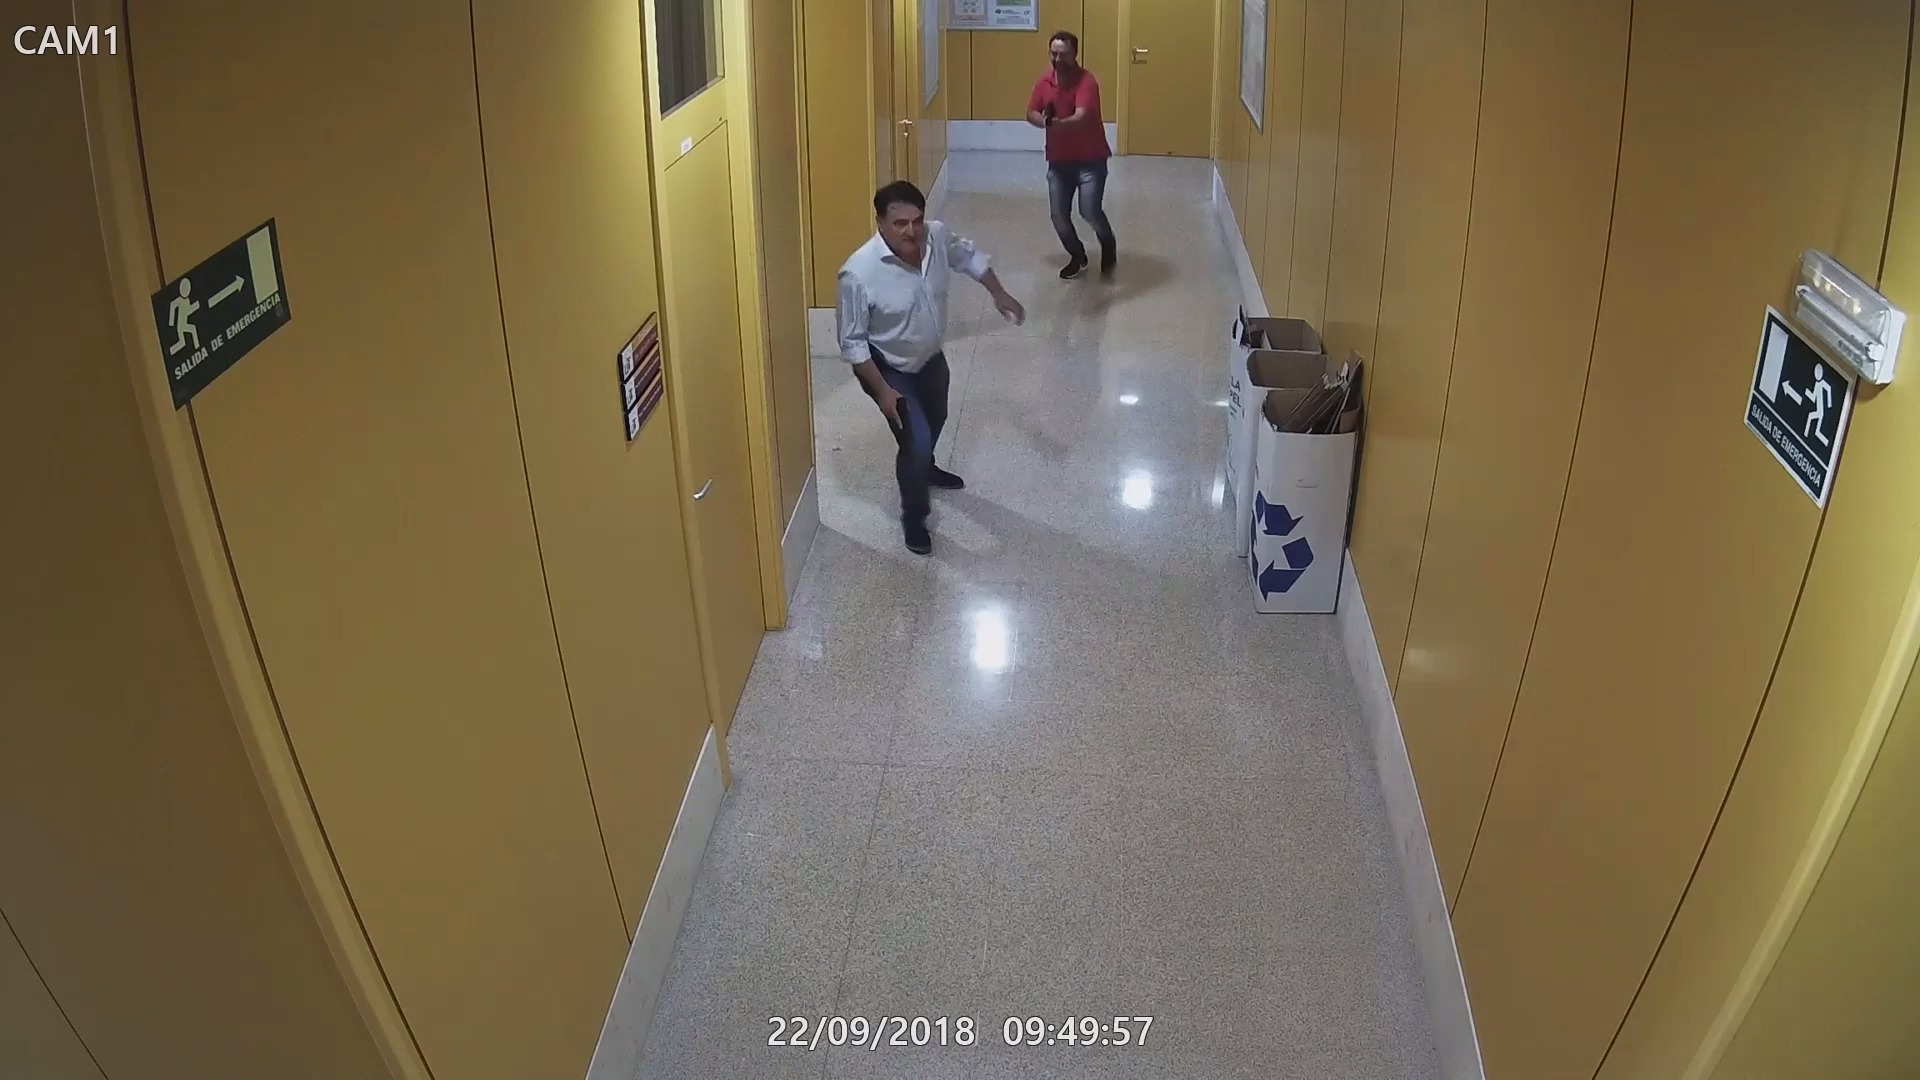Handgun: (880, 388, 916, 444)
Short_rifle: (1038, 102, 1065, 129)
